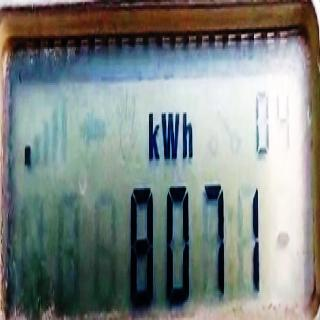-: (274, 218, 290, 255), (24, 144, 31, 168)
0: (163, 176, 193, 310), (254, 83, 271, 162)
1: (247, 177, 266, 299)
4: (275, 85, 293, 154)
7: (203, 168, 231, 303)
8: (127, 179, 157, 317)
